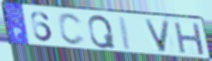6: (29, 11, 54, 44)
C: (57, 12, 87, 47)
H: (172, 20, 206, 57)
I: (117, 15, 133, 52)
Q: (87, 14, 117, 50)
V: (142, 18, 172, 54)
